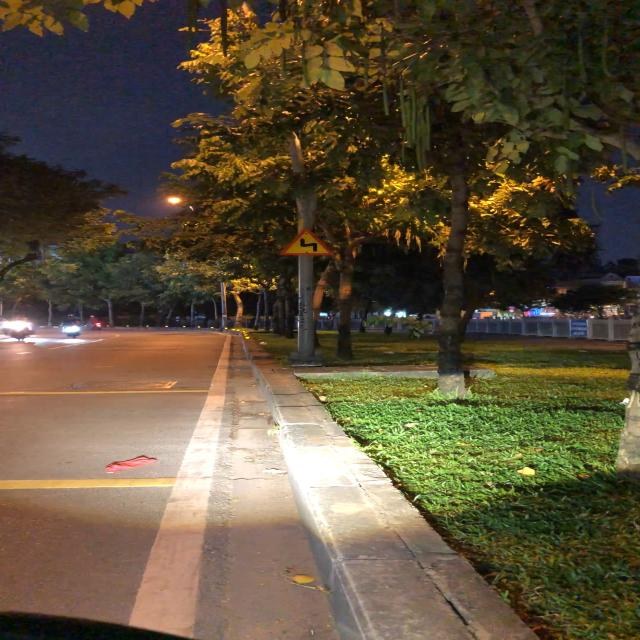Bien bao nhieu cho ngoat nguy hiem lien tiep: (272, 225, 338, 257)
